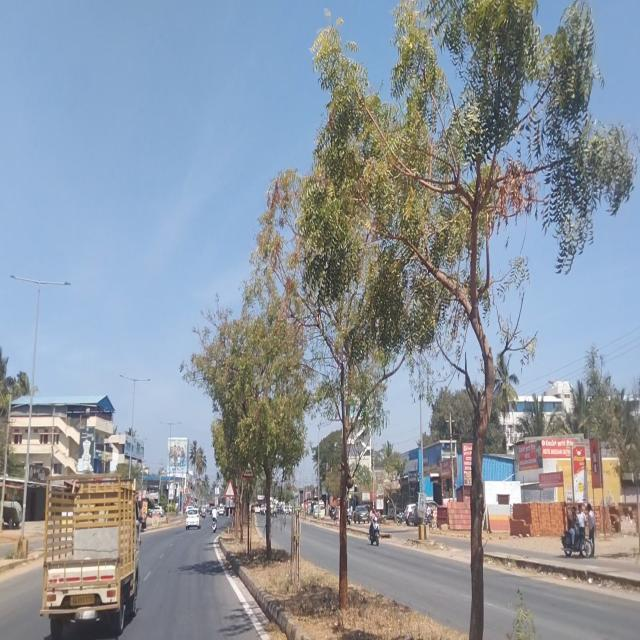bien_cam: (241, 456, 254, 480), (225, 480, 235, 498)
